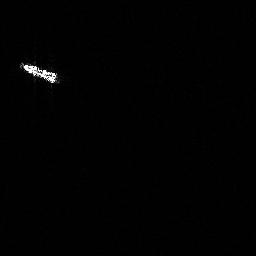ship: (16, 57, 61, 87)
